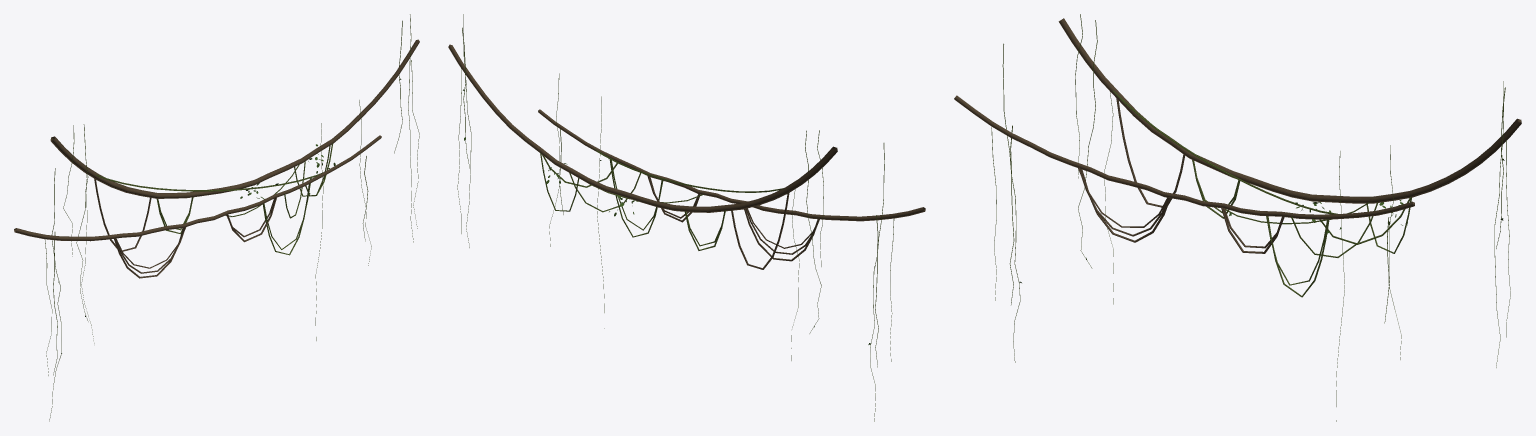
Rendered from liana_span_01_lod2.gltf.
The picture shows the model from 3 angles, left to right: view 1: azimuth 30°, elevation 25°; view 2: azimuth 150°, elevation 25°; view 3: azimuth 330°, elevation 25°; orthographic projection. The views are drawn at different scales.
Visible parts, largest first — view 1: liana_span_01; view 2: liana_span_01; view 3: liana_span_01.
Part boxes in pixels (bbox=[...]): liana_span_01: bbox=[14, 14, 419, 421]; liana_span_01: bbox=[448, 14, 925, 421]; liana_span_01: bbox=[954, 14, 1521, 421].
Bounding box in the file's own units: 10.57 × 7.2 × 1.54.
3 materials, 3 textured.
